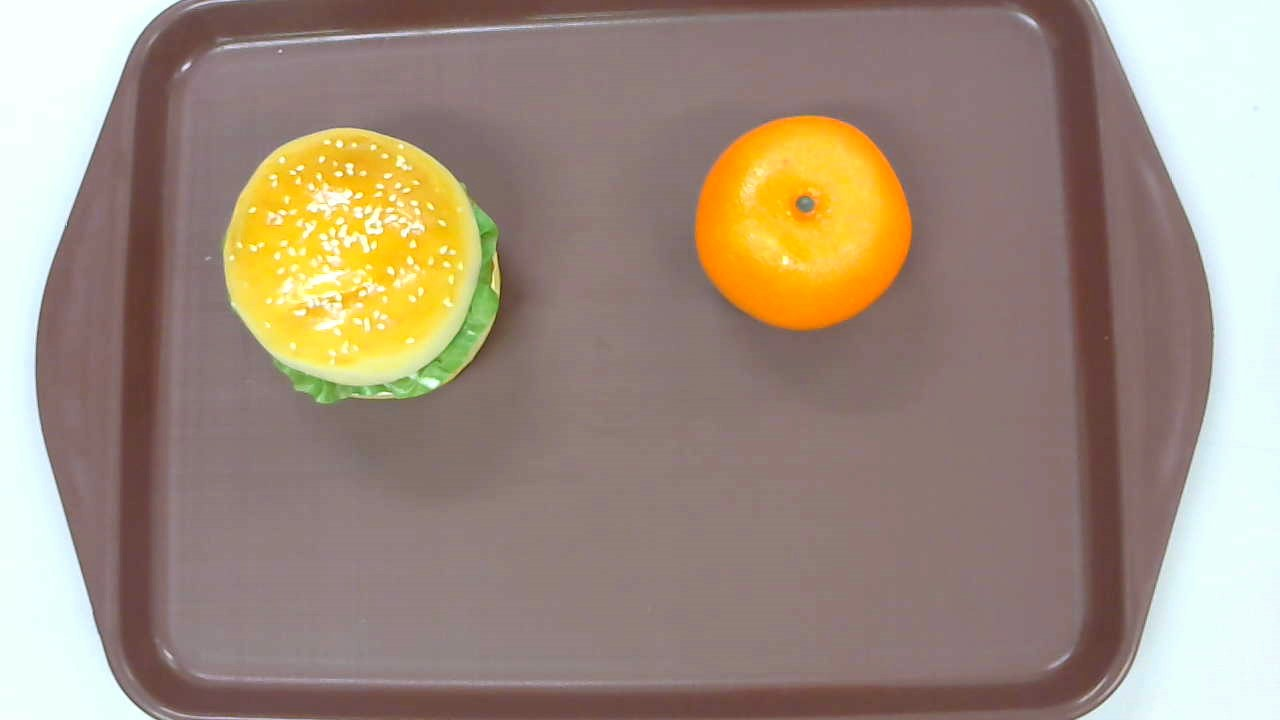hamburger: (222, 128, 501, 405)
orange: (695, 115, 912, 333)
